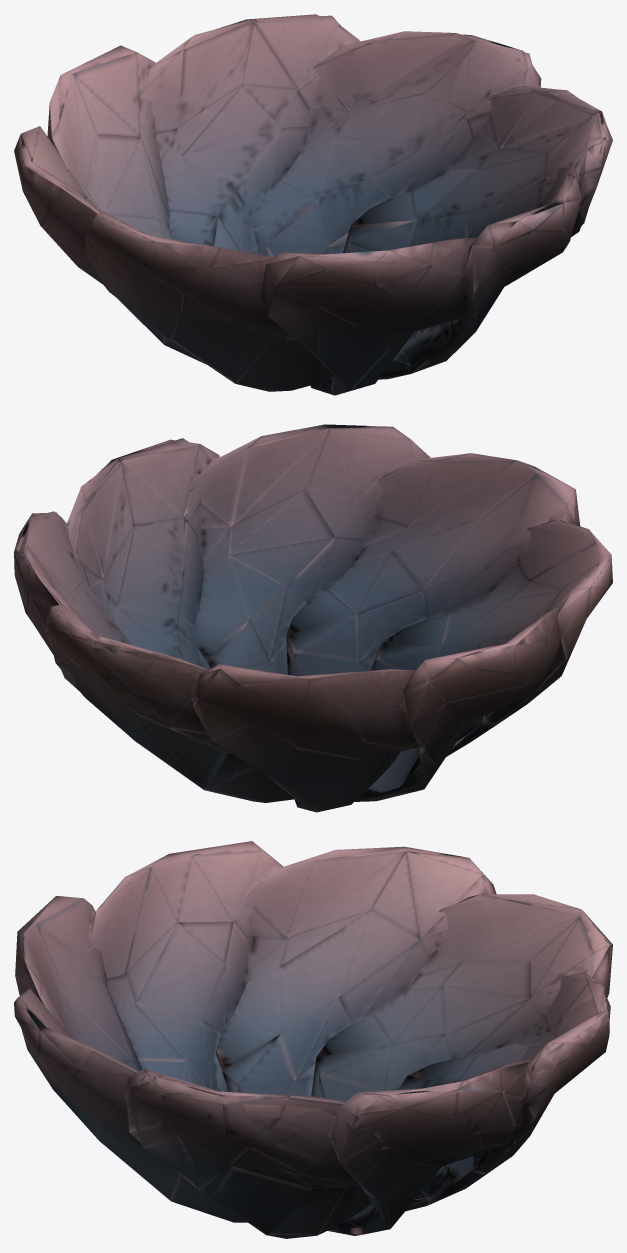
File: bowl01.fbx
3 renders of one model, top to bottom at view 1: azimuth 30°, elevation 25°; view 2: azimuth 150°, elevation 25°; view 3: azimuth 270°, elevation 25°, orthographic. The views are drawn at different scales.
Parts seen in each view (by area): view 1: Vert.001; view 2: Vert.001; view 3: Vert.001.
Part boxes in pixels (left/top/right/bottom): Vert.001: left=14, top=14, right=612, bottom=395; Vert.001: left=14, top=424, right=612, bottom=812; Vert.001: left=14, top=841, right=612, bottom=1238.
Bounding box in the file's own units: 0.4069 × 0.4074 × 0.1877.
1 material, 1 textured.
